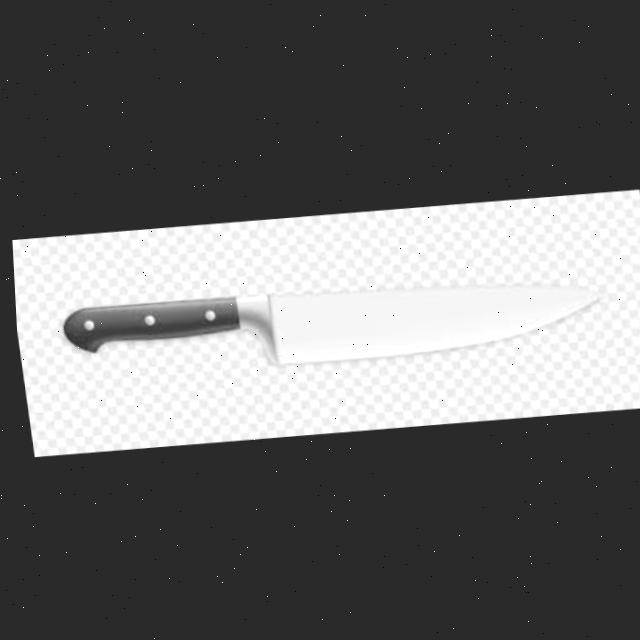knife: (56, 259, 604, 384)
